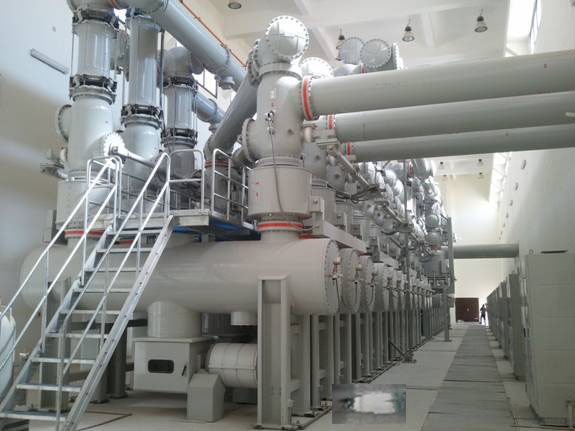oil: (331, 382, 409, 423)
